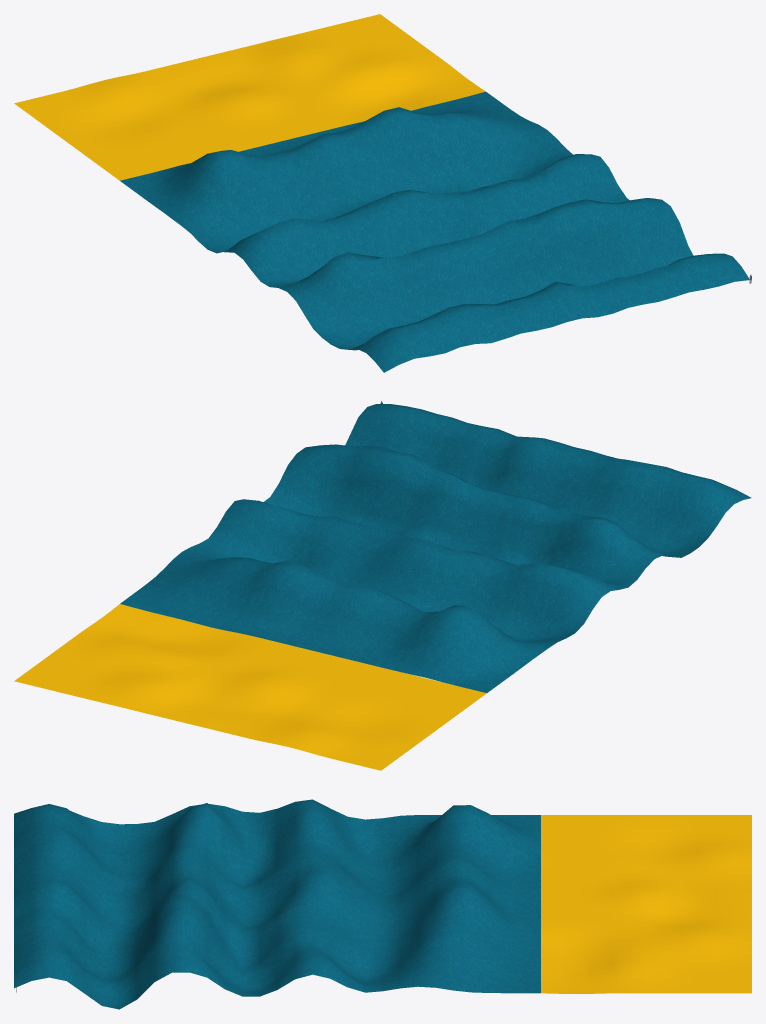
File: wave.dae
The picture shows the model from 3 angles, top to bottom: view 1: azimuth 30°, elevation 25°; view 2: azimuth 150°, elevation 25°; view 3: azimuth 270°, elevation 25°; orthographic projection.
Parts seen in each view (by area): view 1: SketchUp (×2); view 2: SketchUp (×2); view 3: SketchUp (×2).
Part boxes in pixels (x1,y1,x2,y2): SketchUp (×2): (14, 14, 749, 372); SketchUp (×2): (14, 404, 751, 770); SketchUp (×2): (14, 799, 751, 1009).
Bounding box in the file's own units: 2858 × 4961 × 491.
Materials: 9 (1 with a texture image).
